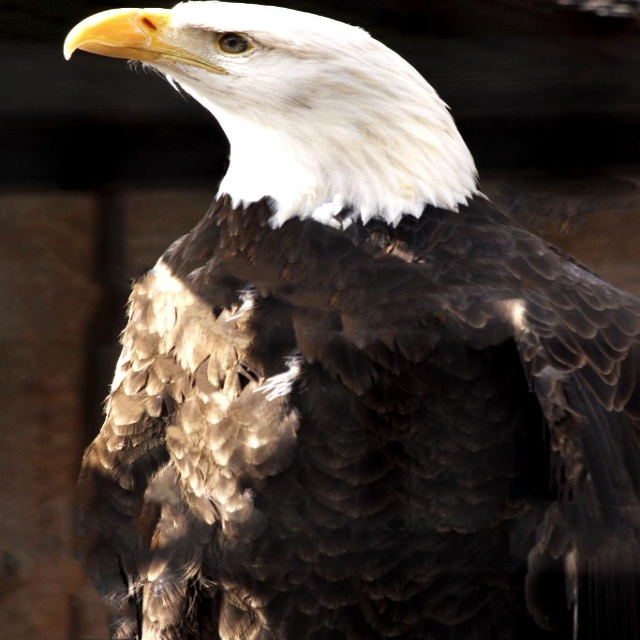Eagle: (62, 0, 639, 640)
